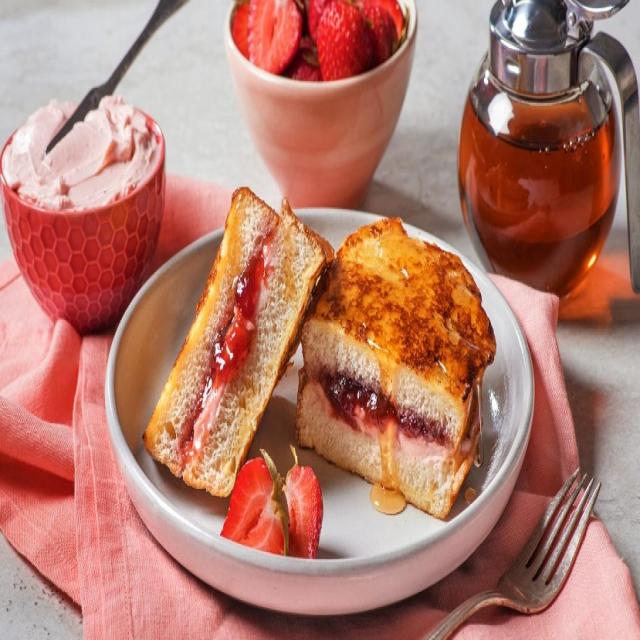Bread: (302, 218, 495, 450)
